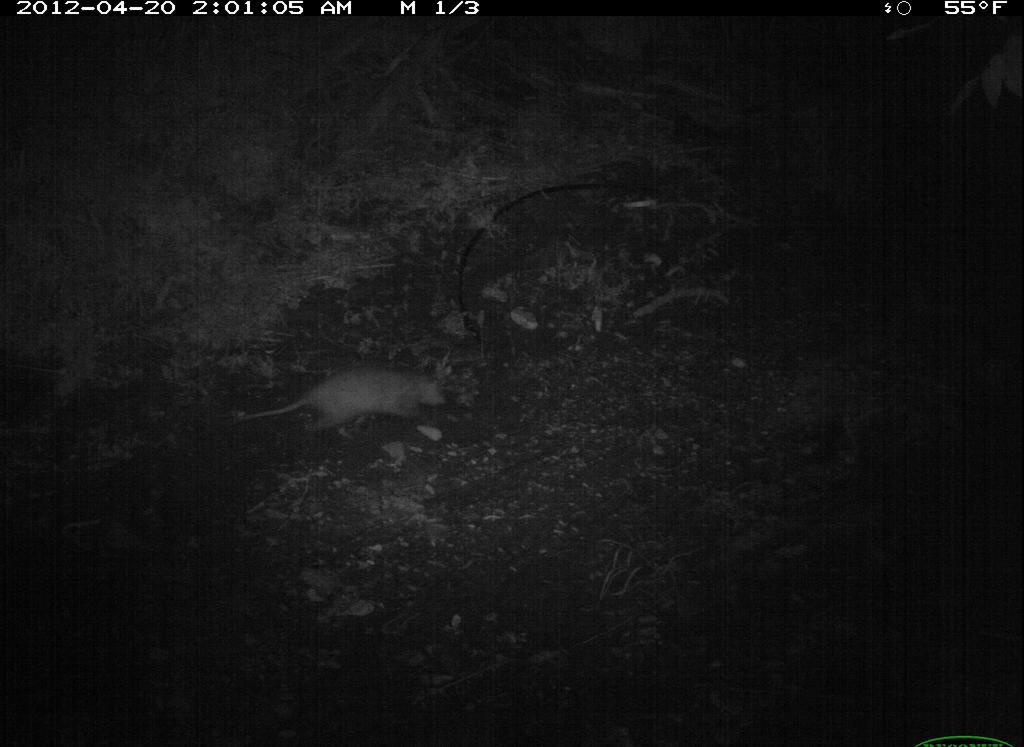opossum: (239, 355, 456, 446)
